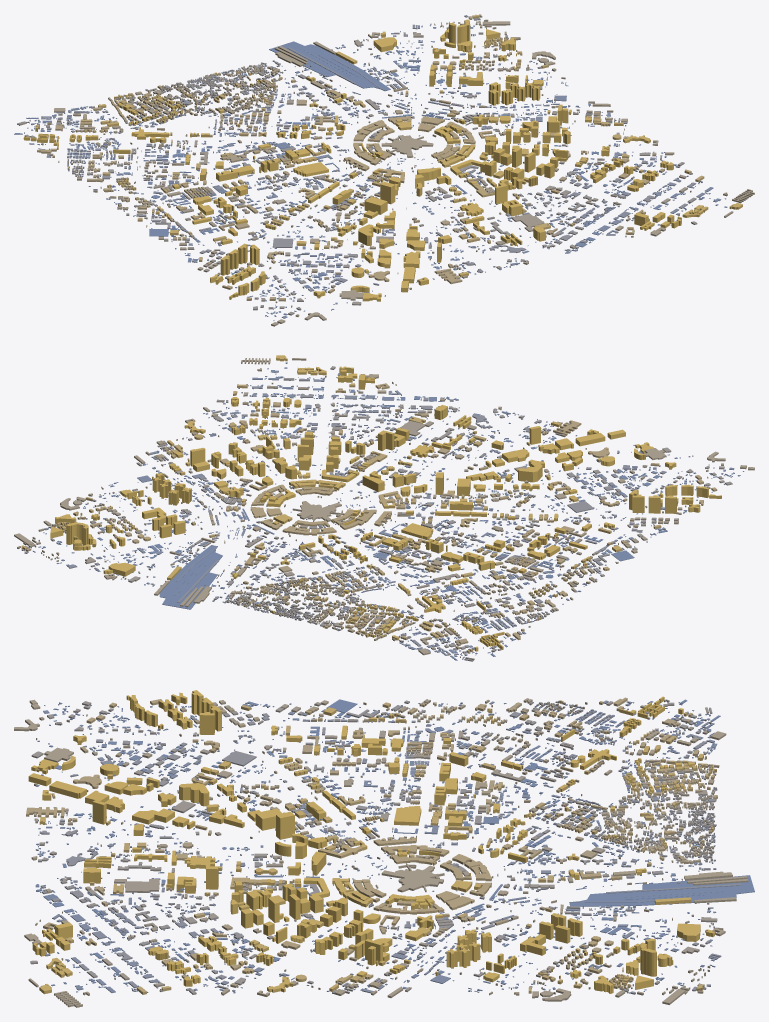
Rendered from buildings.glb.
3 views of the same model, one above another, from view 1: azimuth 30°, elevation 25°; view 2: azimuth 150°, elevation 25°; view 3: azimuth 270°, elevation 25° (orthographic). The views are drawn at different scales.
Visible parts, largest first — view 1: buildings; view 2: buildings; view 3: buildings.
Part boxes in pixels (x1,y1,x2,y2): buildings: (14,14,754,326); buildings: (14,355,754,661); buildings: (14,690,754,1007).
Bounding box in the file's own units: 2797 × 117 × 2833.
